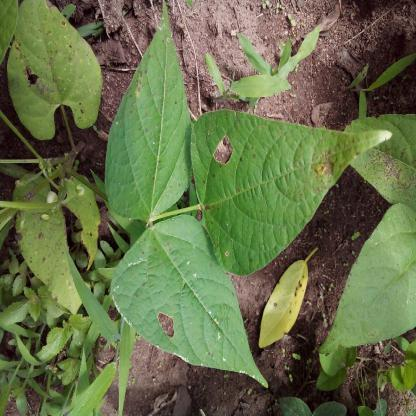Beans_Angular_LeafSpot: (192, 110, 380, 276), (112, 221, 279, 398), (108, 8, 184, 226), (4, 0, 102, 129), (360, 110, 416, 210)
